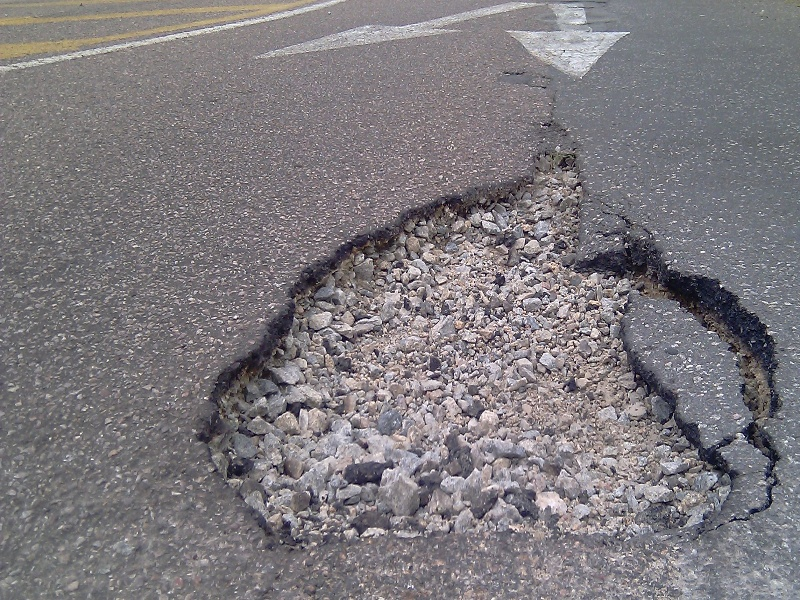pothole: (209, 147, 783, 559)
